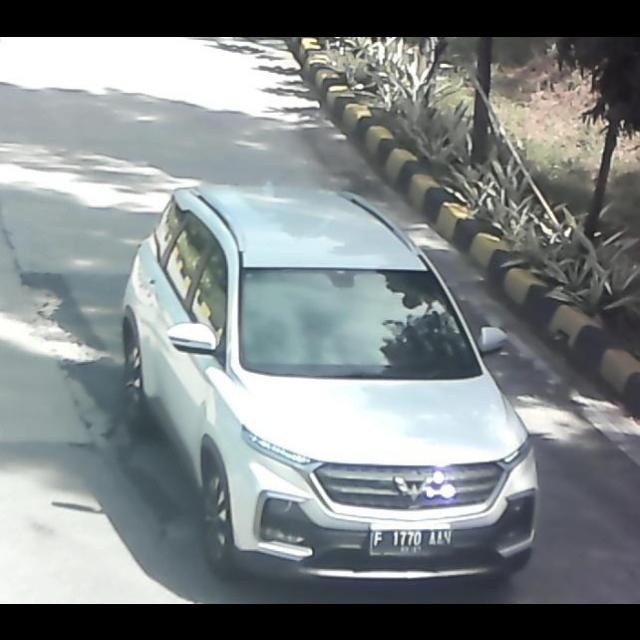plate: (366, 522, 460, 558)
